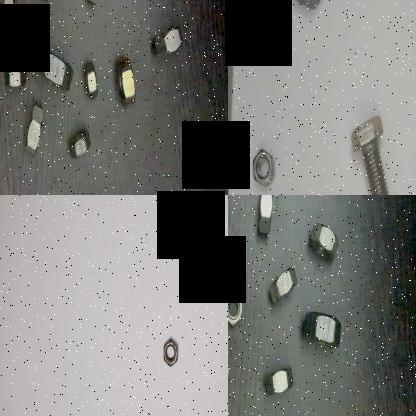Bolts: (345, 107, 397, 195)
NUTS: (33, 38, 75, 90), (108, 43, 138, 113), (299, 310, 343, 356), (243, 134, 277, 190), (18, 96, 46, 162), (264, 260, 300, 306), (260, 362, 296, 404), (304, 220, 340, 262), (150, 20, 186, 61), (64, 121, 92, 161), (80, 57, 99, 104), (254, 195, 274, 239), (1, 61, 26, 92), (287, 0, 329, 18), (160, 333, 180, 369), (228, 281, 243, 329), (0, 0, 16, 27)
